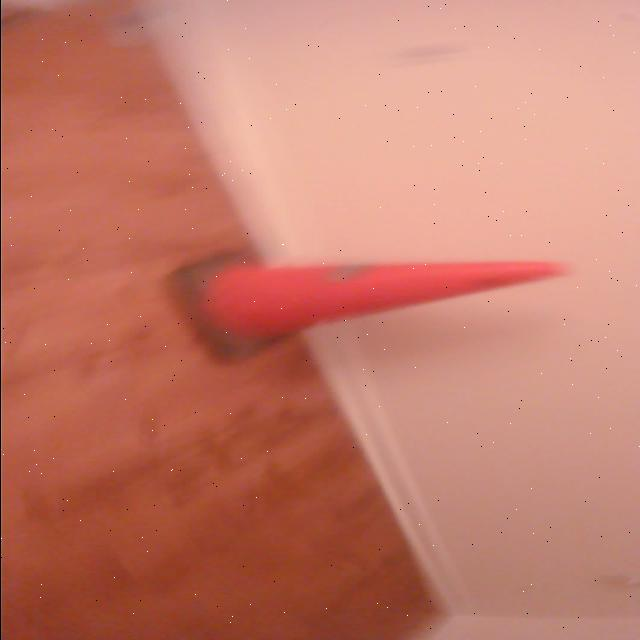traffic cone: (164, 248, 576, 369)
